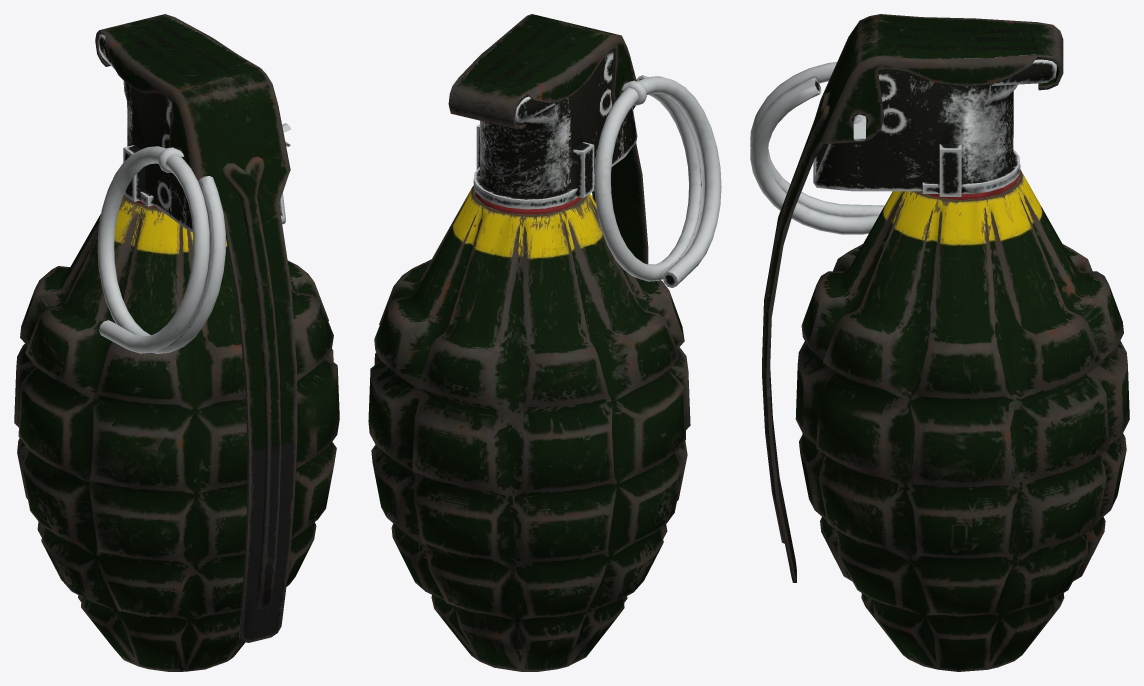
The model's file is grenade_frag.glb.
The picture shows the model from 3 angles, left to right: view 1: azimuth 30°, elevation 25°; view 2: azimuth 150°, elevation 25°; view 3: azimuth 270°, elevation 25°; orthographic projection. The views are drawn at different scales.
Visible parts, largest first — view 1: grenade_frag; view 2: grenade_frag; view 3: grenade_frag.
Boxes of the visible parts, x1,y1,x2,y2 form: grenade_frag: (14, 14, 339, 671); grenade_frag: (368, 14, 721, 671); grenade_frag: (750, 14, 1129, 671).
Bounding box in the file's own units: 0.0568 × 0.1142 × 0.0645.
1 material, 1 textured.
